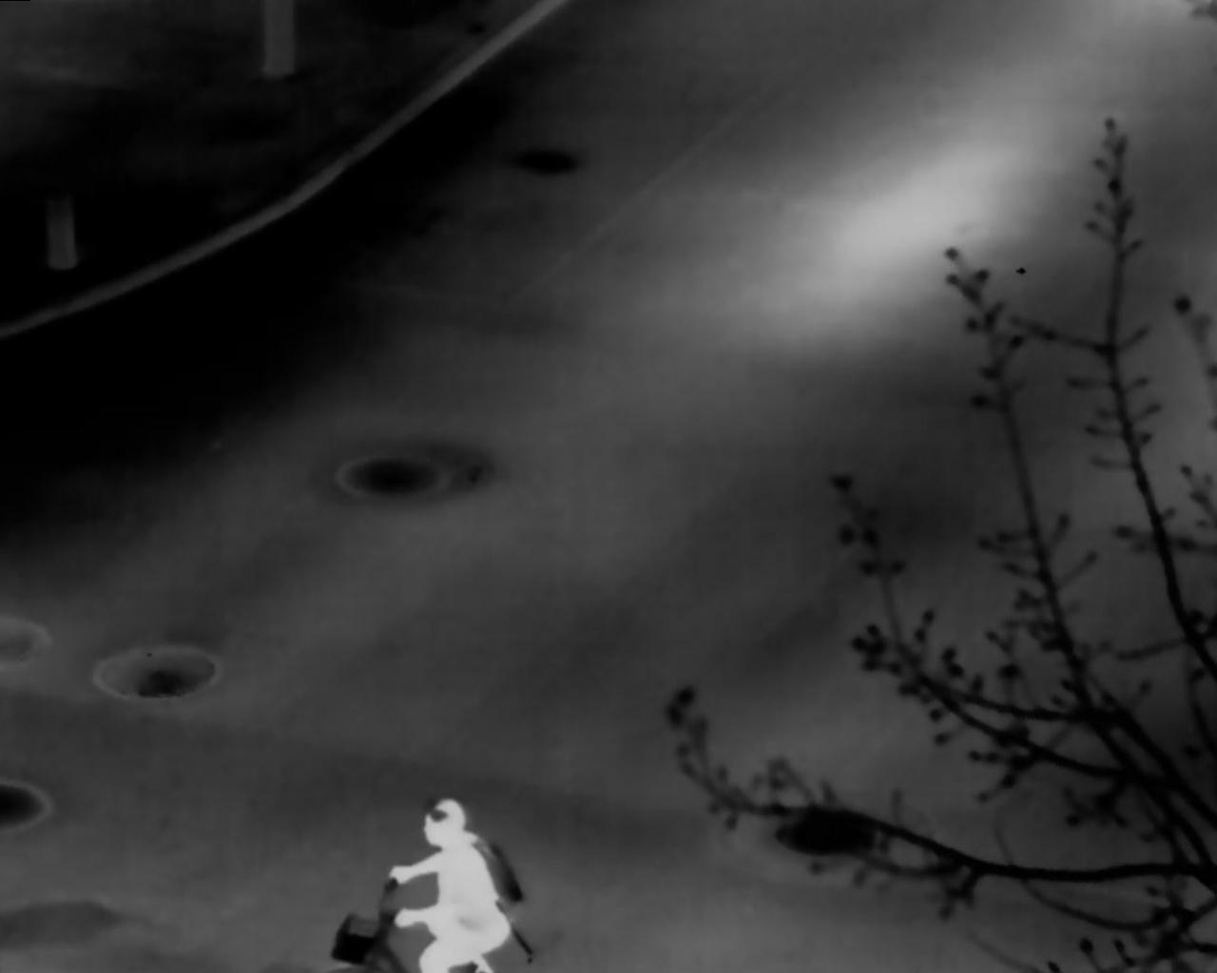person: (398, 802, 524, 973)
